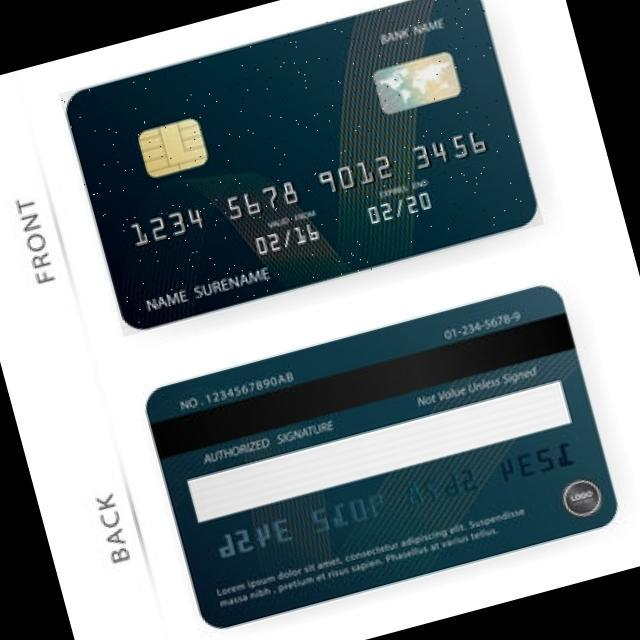payment_card: (143, 284, 618, 629), (66, 0, 539, 330)
